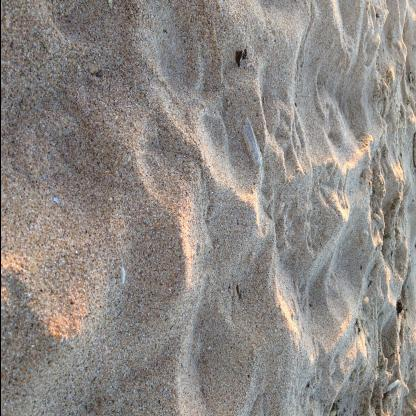plastik: (241, 118, 261, 166)
